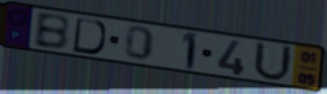0: (124, 25, 157, 63)
1: (181, 31, 201, 72)
4: (215, 38, 247, 78)
B: (32, 11, 72, 52)
D: (70, 16, 107, 56)
U: (251, 40, 295, 83)
